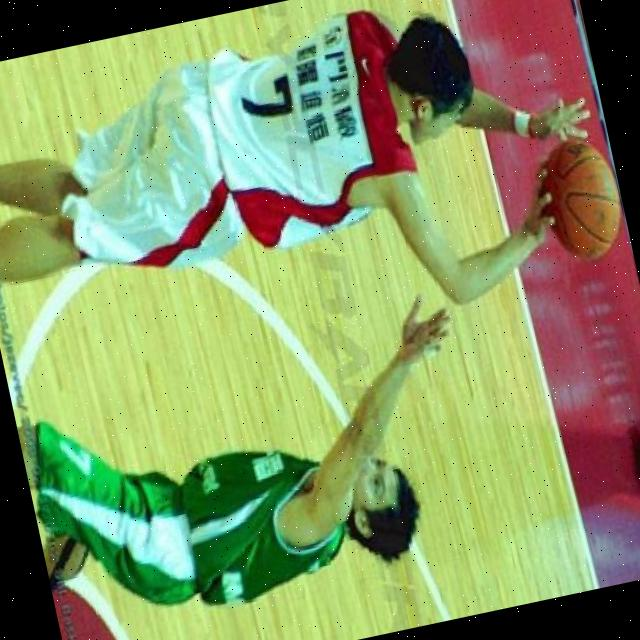ball: (526, 130, 632, 268)
